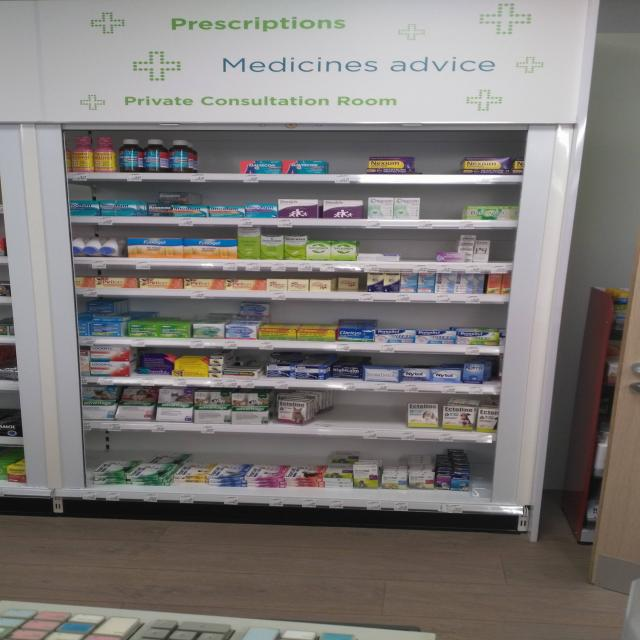empty: (310, 387, 411, 423), (322, 124, 373, 182), (414, 138, 468, 177), (193, 133, 243, 175), (419, 187, 468, 220), (394, 227, 436, 263), (490, 224, 516, 269)
